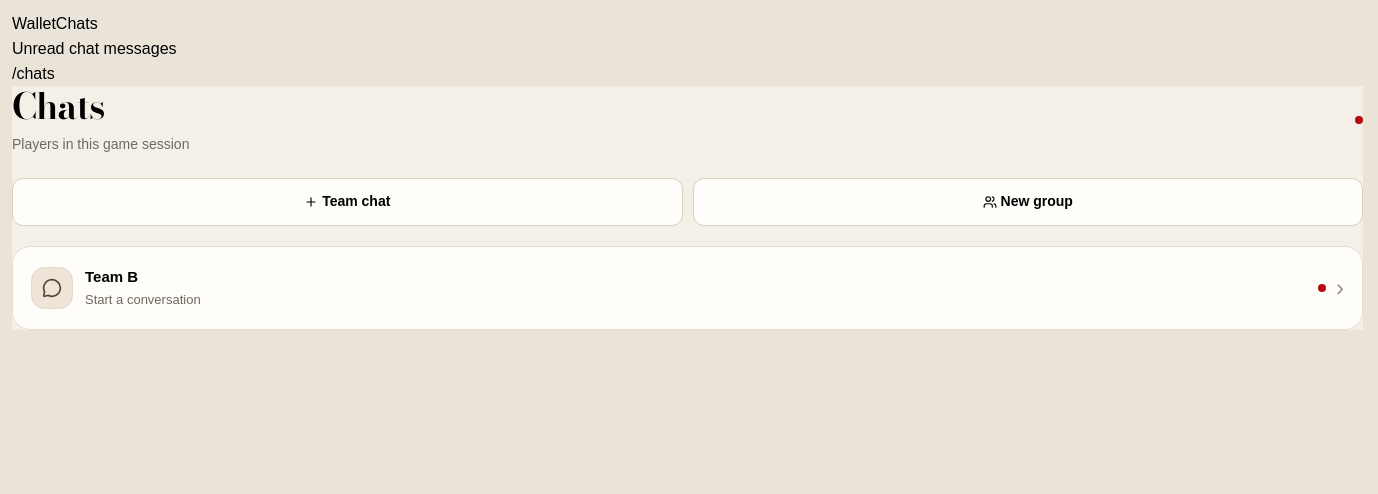
Test: does not clear unread messages in a background browser tab
Click the button "Team B Start a conversation ›": [52, 288] box [13,247,1362,329]
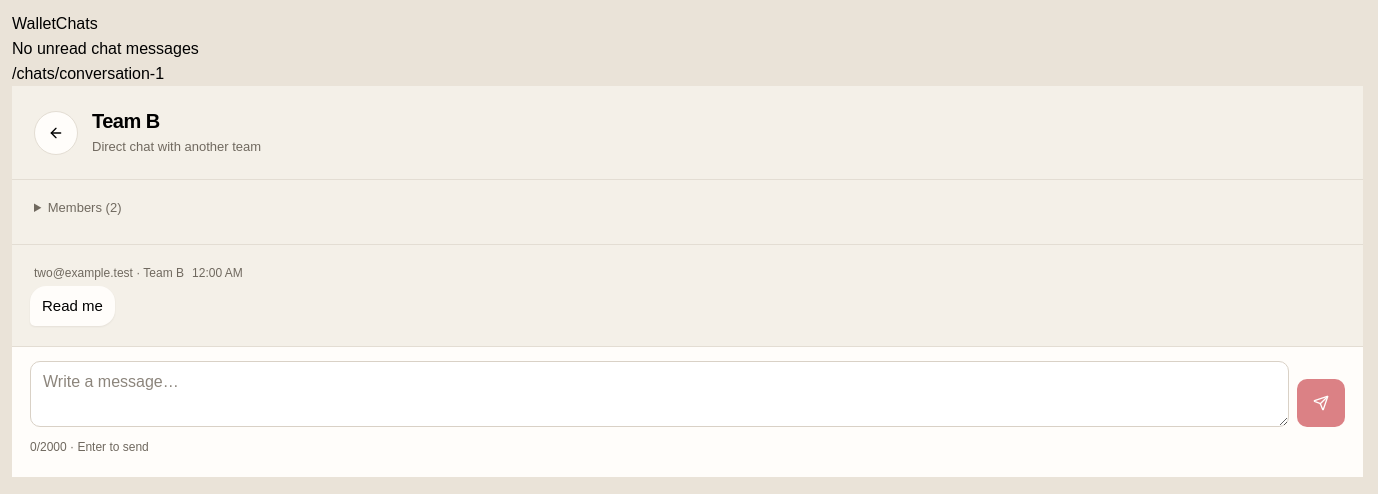
Check: the text "Read me" is shown, box [42,294,103,318]
Check: the text "No unread chat messages" is shown, box [12,40,199,57]
